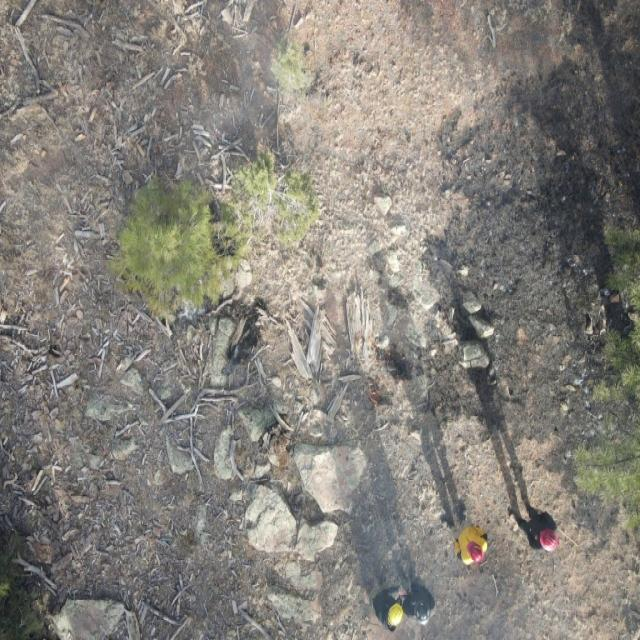fire: (374, 345, 406, 366), (364, 376, 382, 408)
smoke: (141, 46, 277, 160)
